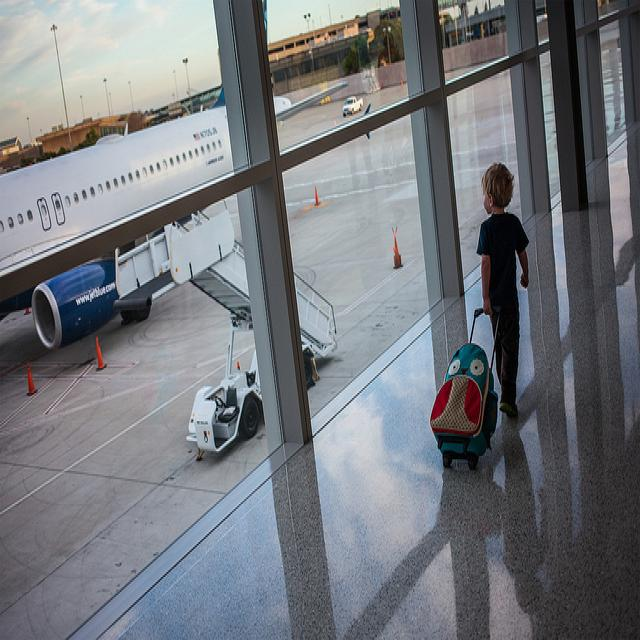Vehicle: (343, 96, 364, 117)
